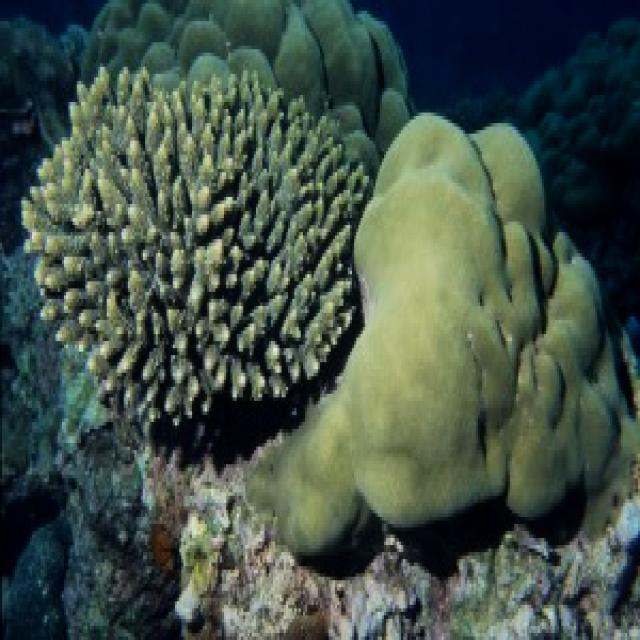Coral: (250, 112, 640, 562), (19, 63, 370, 426), (79, 0, 410, 203)
